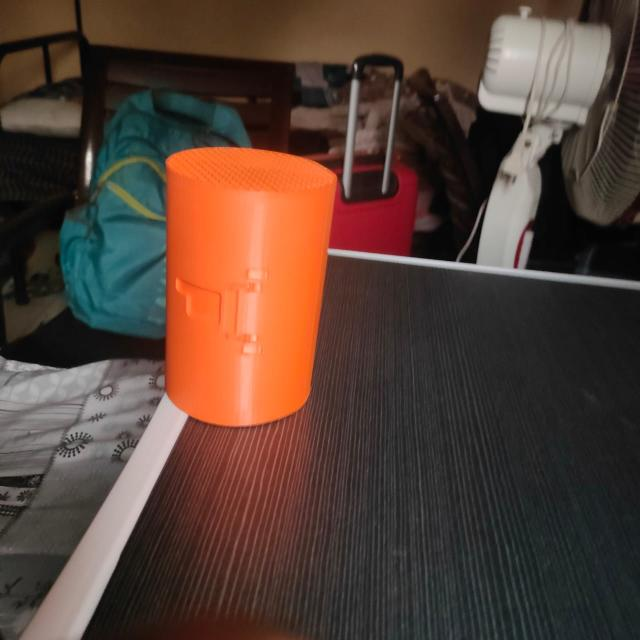Cylinder: (162, 145, 338, 427)
